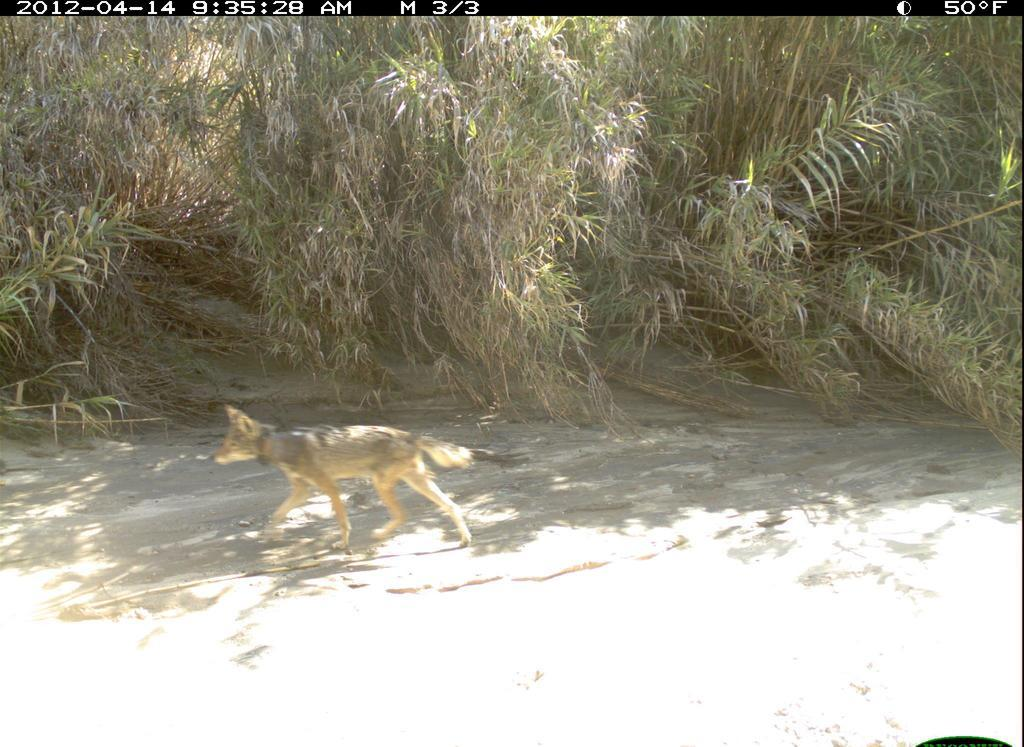coyote: (201, 395, 482, 560)
